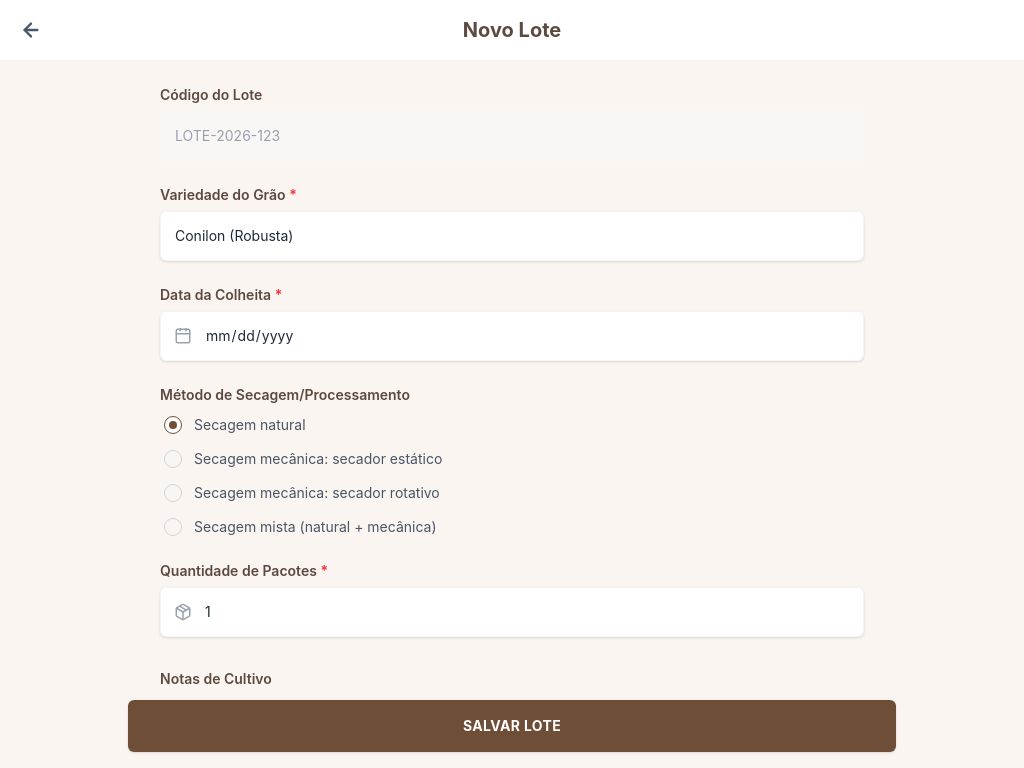
Test: RegistroLote › deve mostrar erros de validação ao tentar submeter com campos obrigatórios vazios
The width and height of the screenshot is (1024, 768).
Note: Tentamos salvar sem preencher a data (o react-hook-form tem default pra quase tudo menos data)
Click the button "SALVAR LOTE": (512, 726) [128, 700, 896, 752]
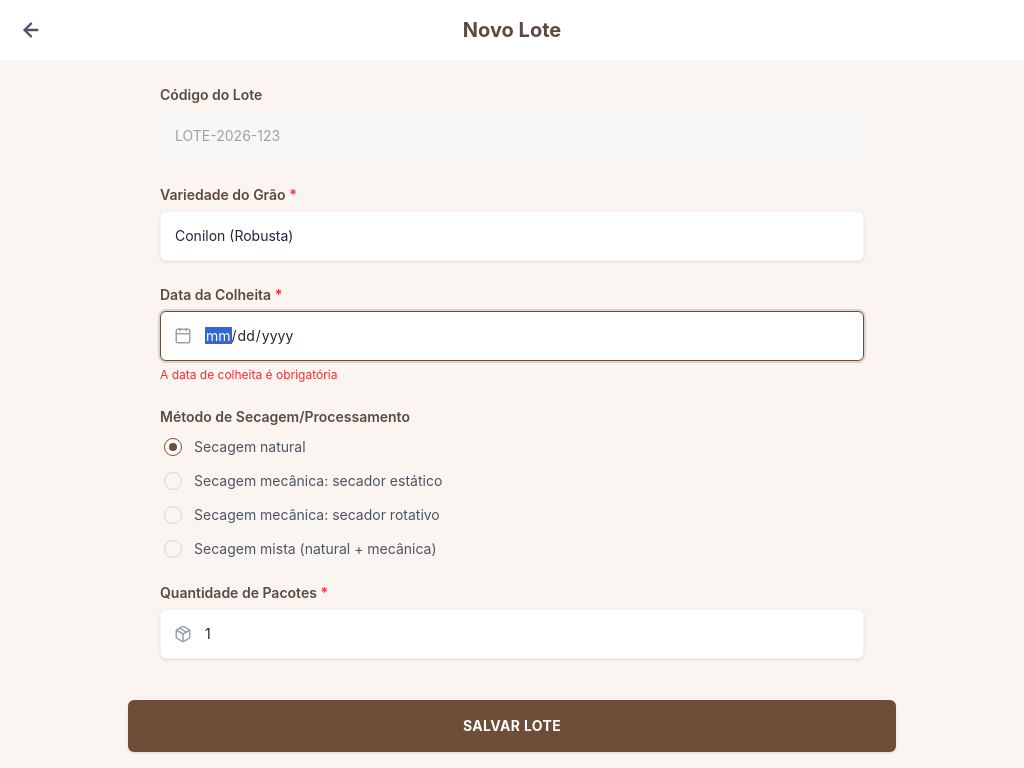
Expected: the text "A data de colheita é obrigatória" is shown, [160, 367, 338, 382]
